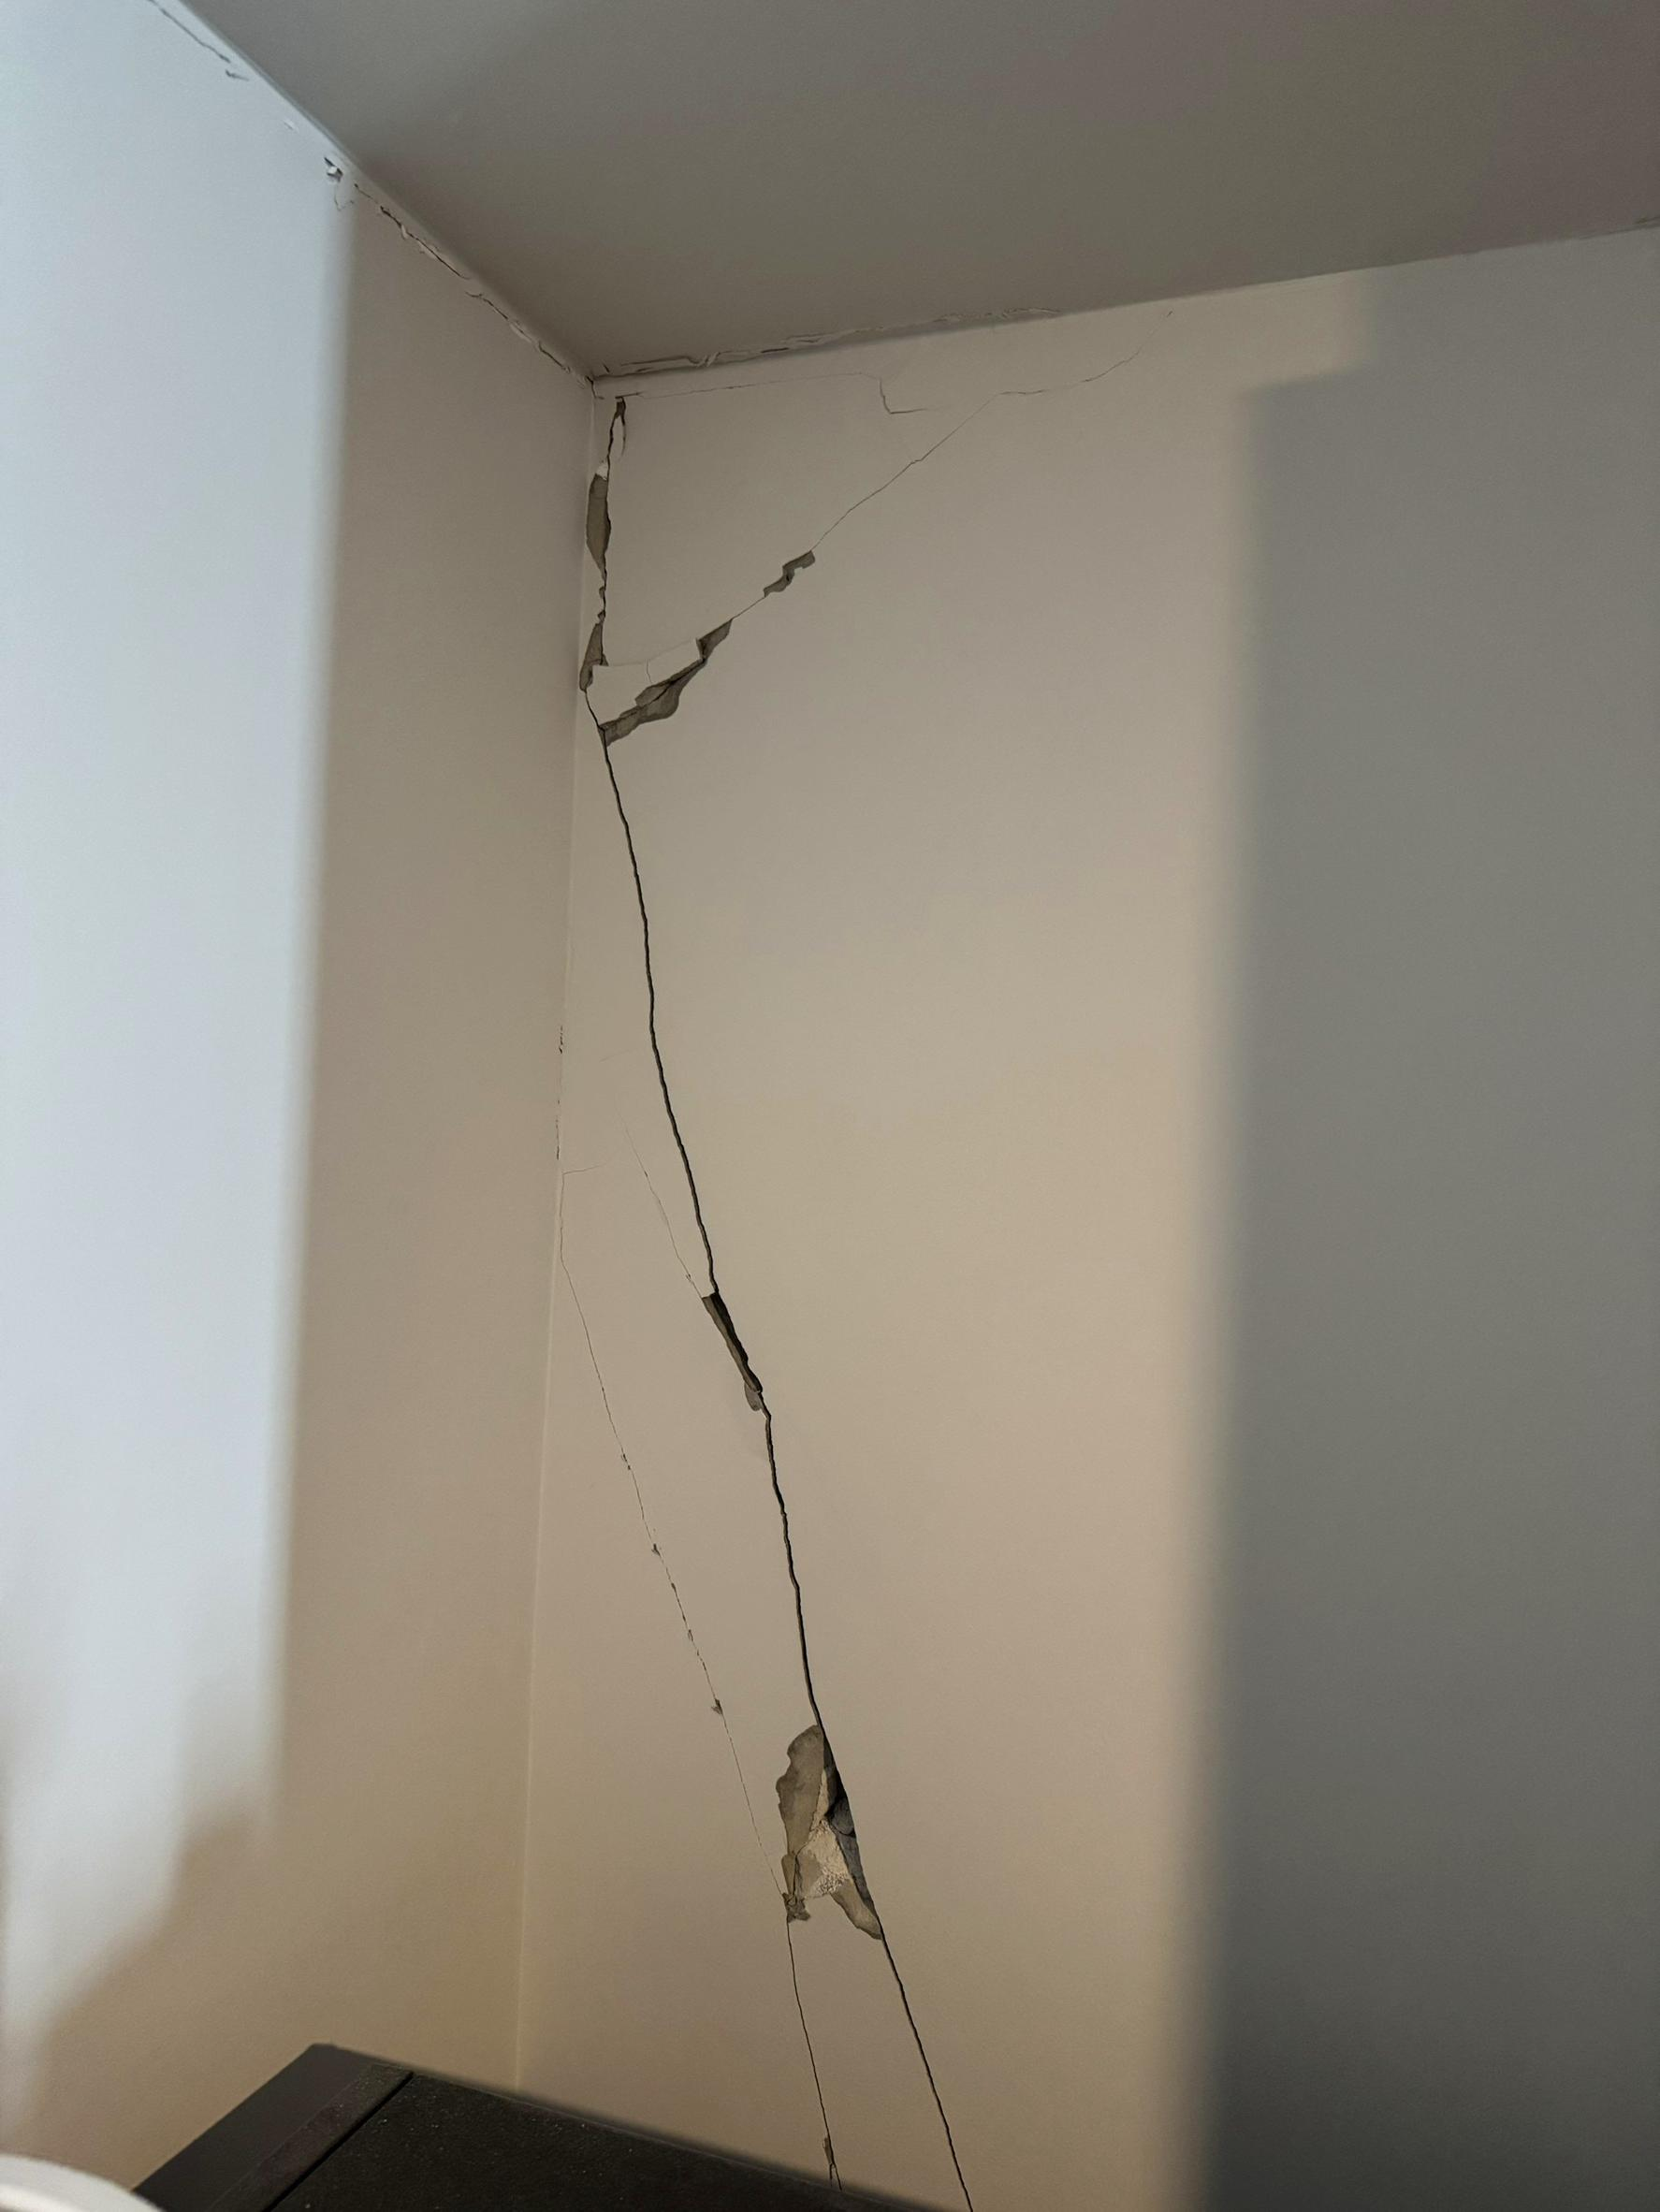High: (527, 380, 1011, 2086)
